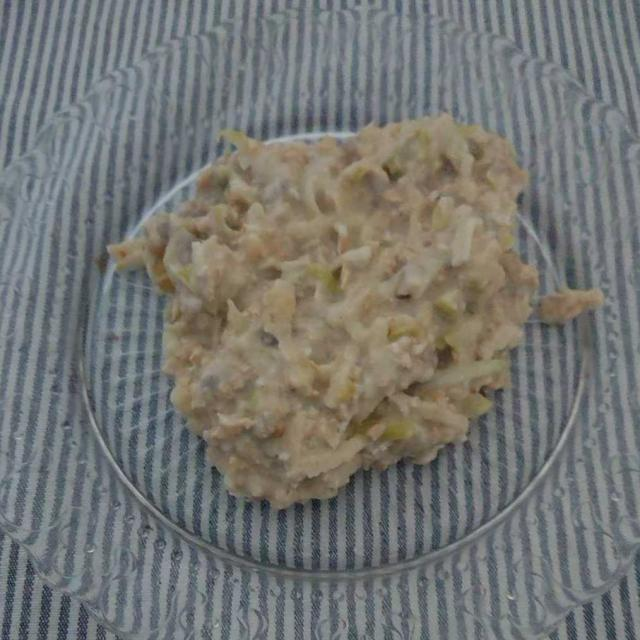porridge: (110, 122, 577, 496)
